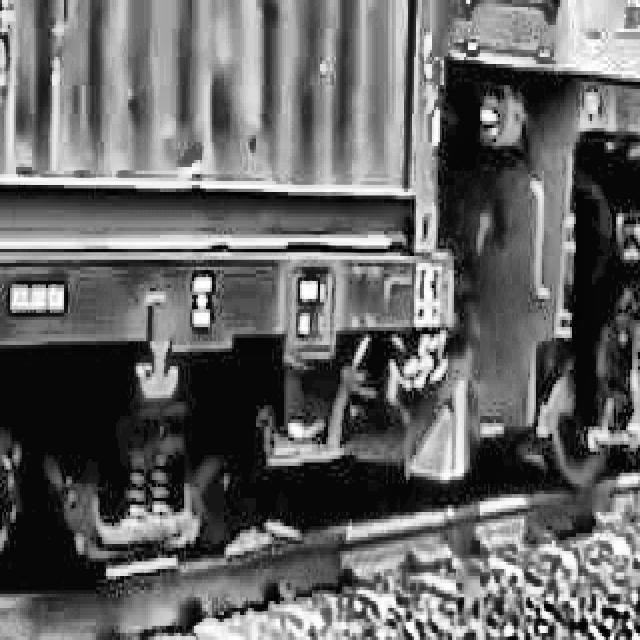Gerbong: (0, 0, 466, 608)
Lokomotif: (416, 0, 640, 519)
